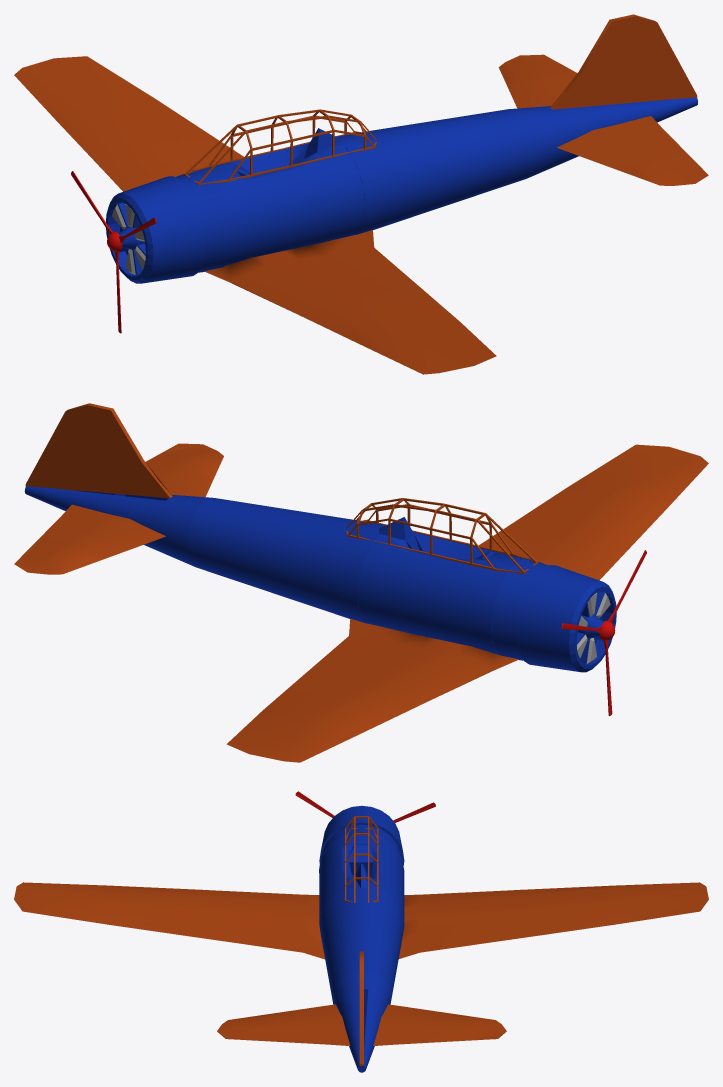
3 renders of one model, top to bottom at view 1: azimuth 30°, elevation 25°; view 2: azimuth 150°, elevation 25°; view 3: azimuth 270°, elevation 25°, orthographic. The views are drawn at different scales.
Visible parts, largest first — view 1: cilindrai, Sphere002; view 2: cilindrai, Sphere002; view 3: cilindrai.
Boxes of the visible parts, x1,y1,x2,y2 form: cilindrai: (14, 14, 708, 374); Sphere002: (71, 171, 156, 333); cilindrai: (14, 403, 708, 762); Sphere002: (561, 550, 646, 715); cilindrai: (14, 805, 708, 1072).
Size of the model in its own units: 132 by 40.53 by 163.
